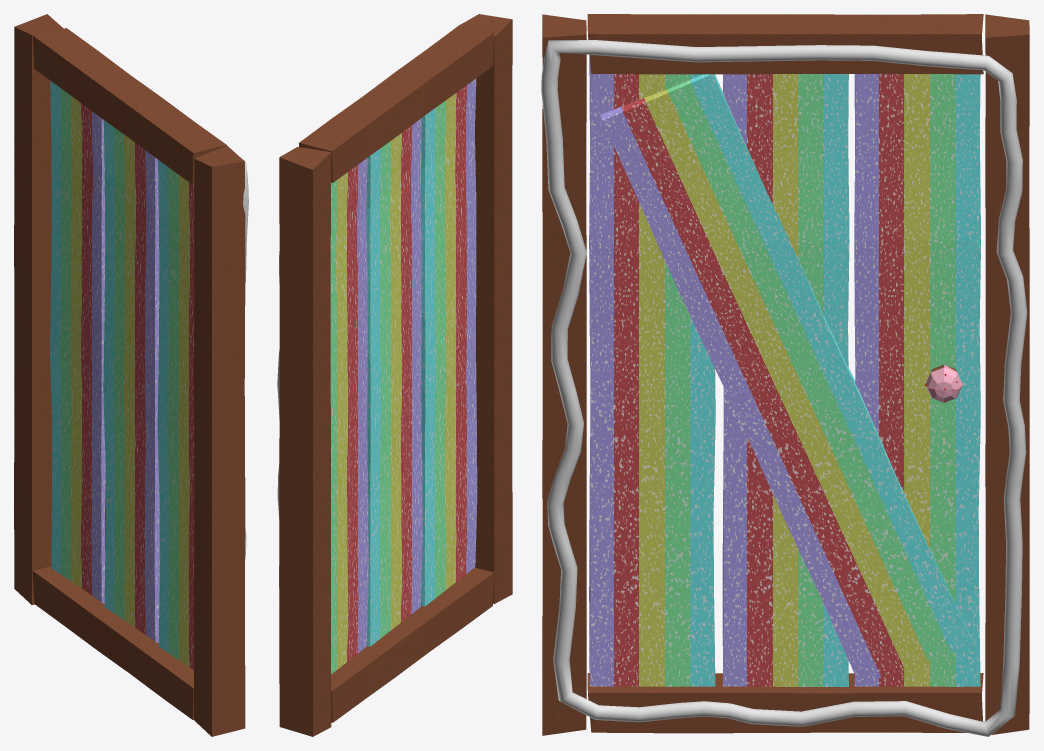
The model's file is drzwi.fbx.
The picture shows the model from 3 angles, left to right: view 1: azimuth 30°, elevation 25°; view 2: azimuth 150°, elevation 25°; view 3: azimuth 270°, elevation 25°; orthographic projection. The views are drawn at different scales.
Parts seen in each view (by area): view 1: Drzwi; view 2: Drzwi; view 3: Drzwi.
Part boxes in pixels (bbox=[...]): Drzwi: bbox=[14, 14, 248, 736]; Drzwi: bbox=[277, 14, 512, 736]; Drzwi: bbox=[541, 14, 1029, 736].
Size of the model in its own units: 64.77 by 841 by 530.
6 materials, 2 textured.
